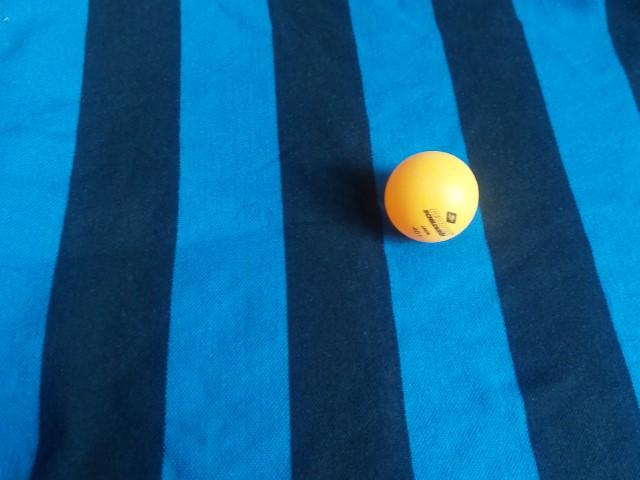oball: (377, 144, 485, 247)
